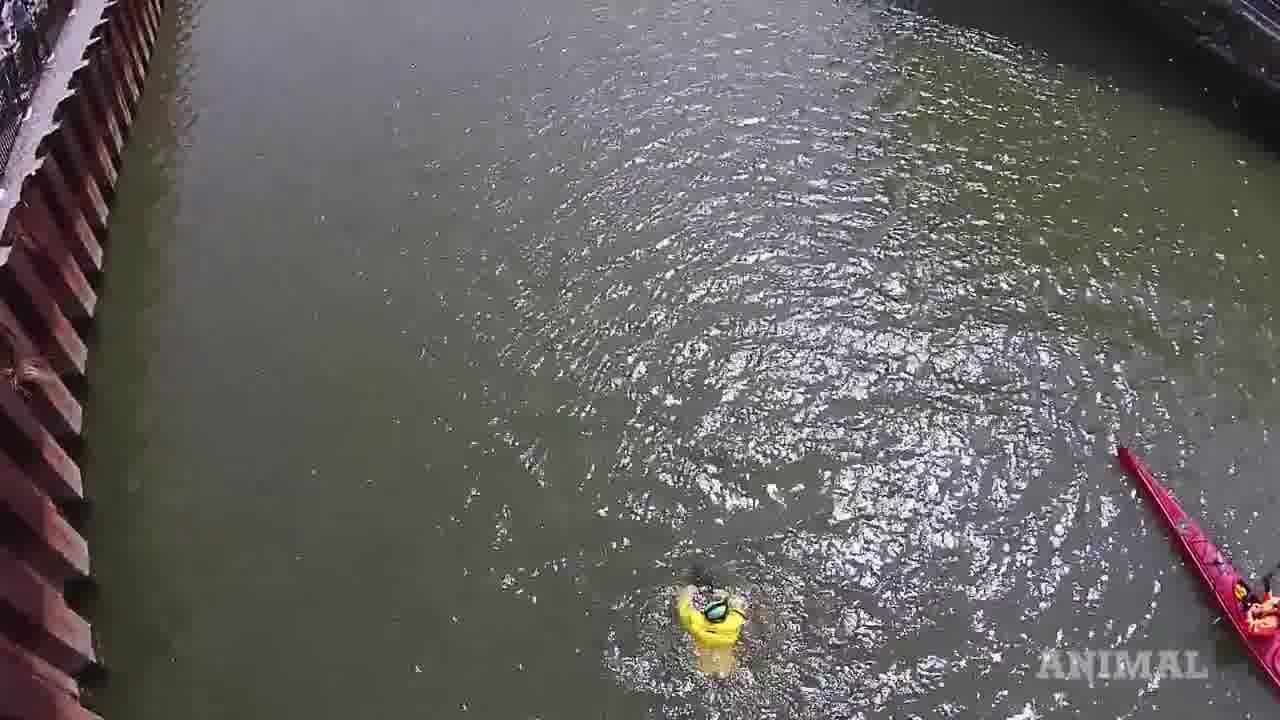human: (676, 570, 754, 663)
